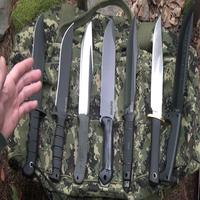knife: (165, 9, 198, 187), (74, 19, 97, 187), (97, 14, 119, 183), (53, 21, 76, 181), (25, 14, 47, 181), (149, 14, 168, 192), (123, 12, 139, 187)
